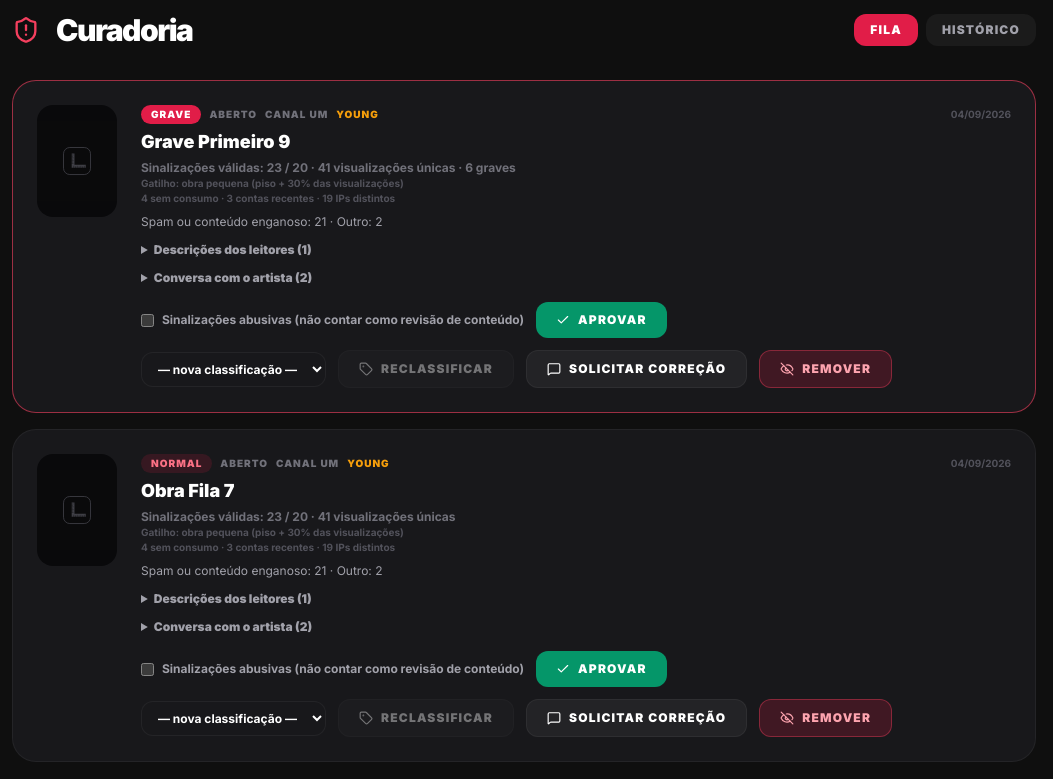
Scenario: CuradoriaPanel › Histórico NÃO mostra a linha de agregados vivos (o backend só a calcula na fila) nem botões de ação
Expected: the heading "Obra Fila 7" is shown, [141,480,234,501]
Step 1. Click the button "Histórico" → (981, 30), box [926,14,1036,46]
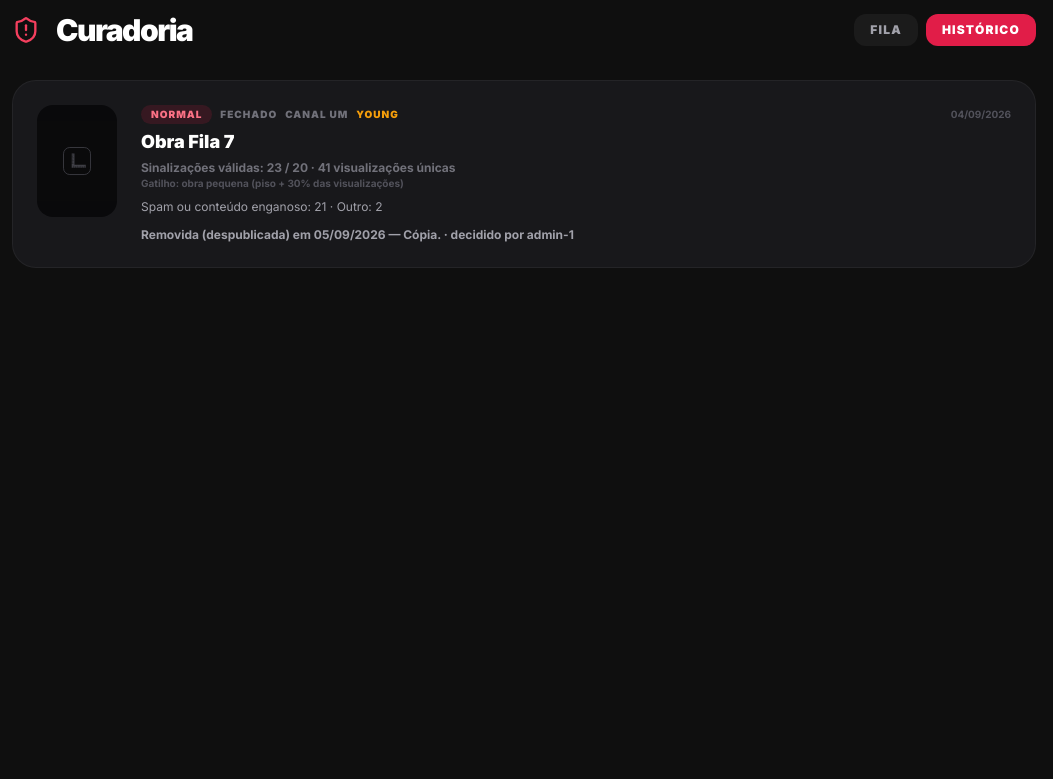
Result: the text "Removida" is shown at [141,227,290,242]
Result: the text "sem consumo" is gone
Result: the text "IPs distintos" is gone
